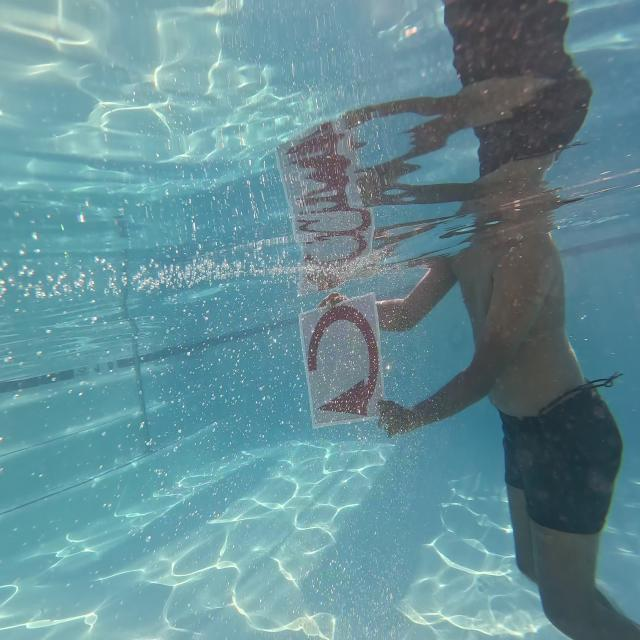red_side: (292, 288, 394, 446)
